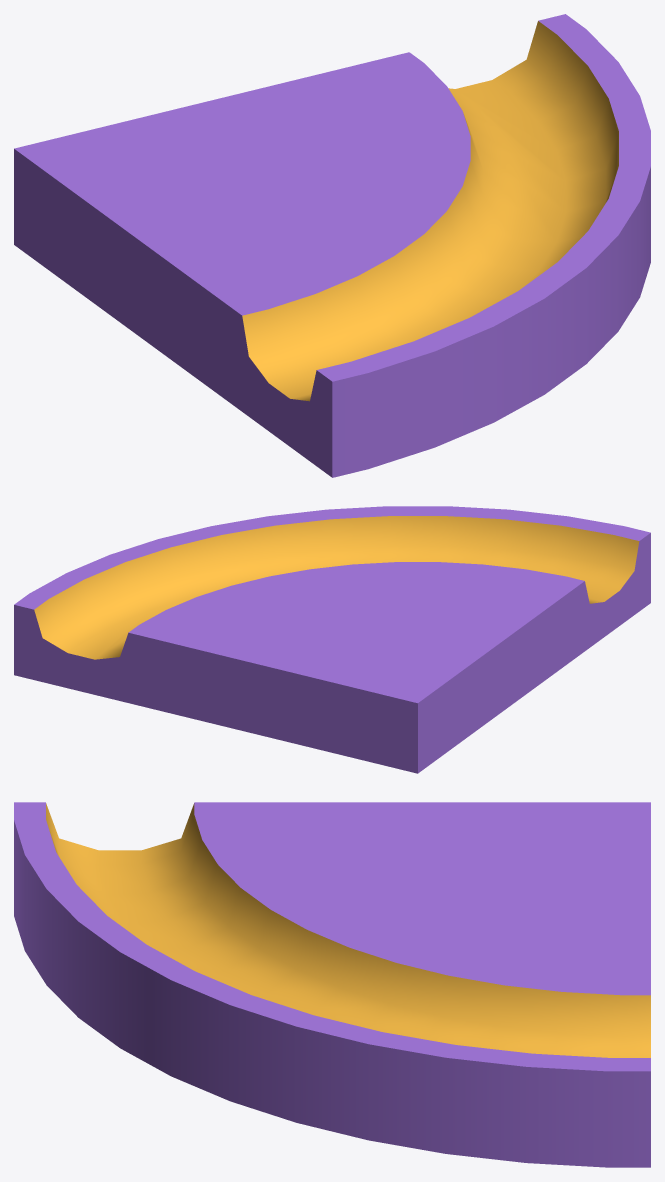
Rendered from curve-solid-large-col.glb.
3 renders of one model, top to bottom at view 1: azimuth 30°, elevation 25°; view 2: azimuth 150°, elevation 25°; view 3: azimuth 270°, elevation 25°, orthographic. The views are drawn at different scales.
Parts seen in each view (by area): view 1: curve-solid-large-col; view 2: curve-solid-large-col; view 3: curve-solid-large-col.
Boxes of the visible parts, box(x1,y1,x2,y2) form: curve-solid-large-col: box(14, 14, 650, 477); curve-solid-large-col: box(14, 506, 650, 773); curve-solid-large-col: box(14, 802, 650, 1167).
Size of the model in its own units: 3 by 0.5 by 3.
Materials: 1 (1 with a texture image).
